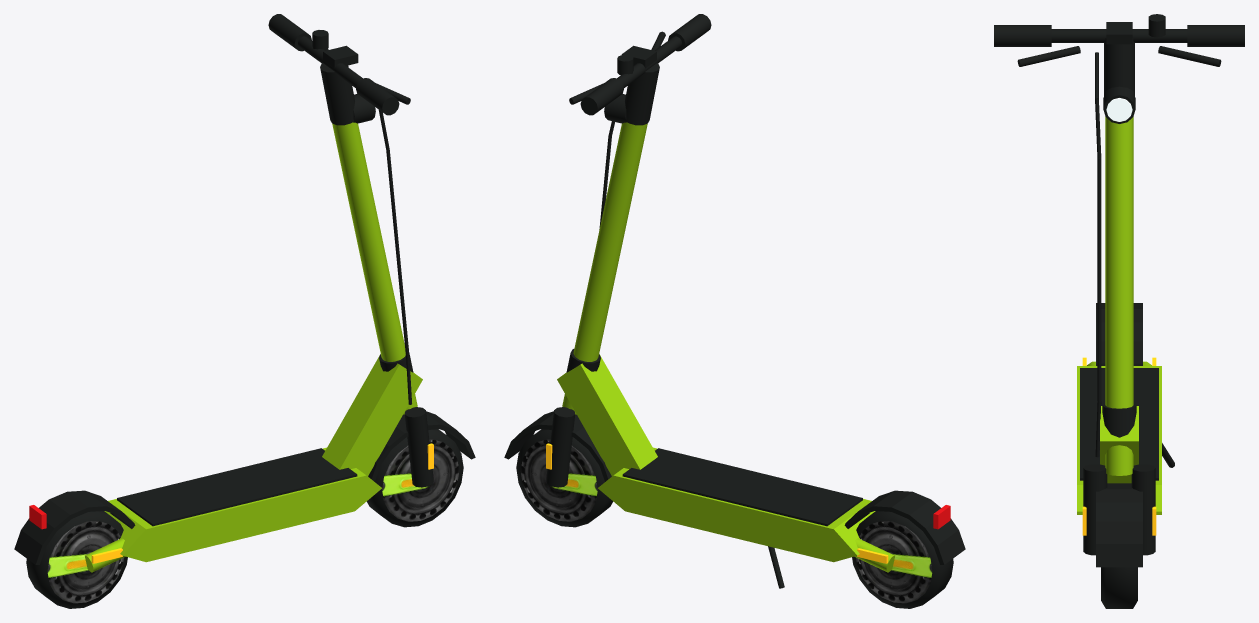
Rendered from scooter_r3.glb.
3 renders of one model, left to right at view 1: azimuth 30°, elevation 25°; view 2: azimuth 150°, elevation 25°; view 3: azimuth 270°, elevation 25°, orthographic. The views are drawn at different scales.
Visible parts, largest first — view 1: scooter_r3; view 2: scooter_r3; view 3: scooter_r3.
Boxes of the visible parts, x1,y1,x2,y2 form: scooter_r3: [14, 14, 475, 608]; scooter_r3: [504, 14, 965, 608]; scooter_r3: [994, 14, 1244, 608].
Bounding box in the file's own units: 1.12 × 1.2 × 0.5.
Materials: 3 (1 with a texture image).
